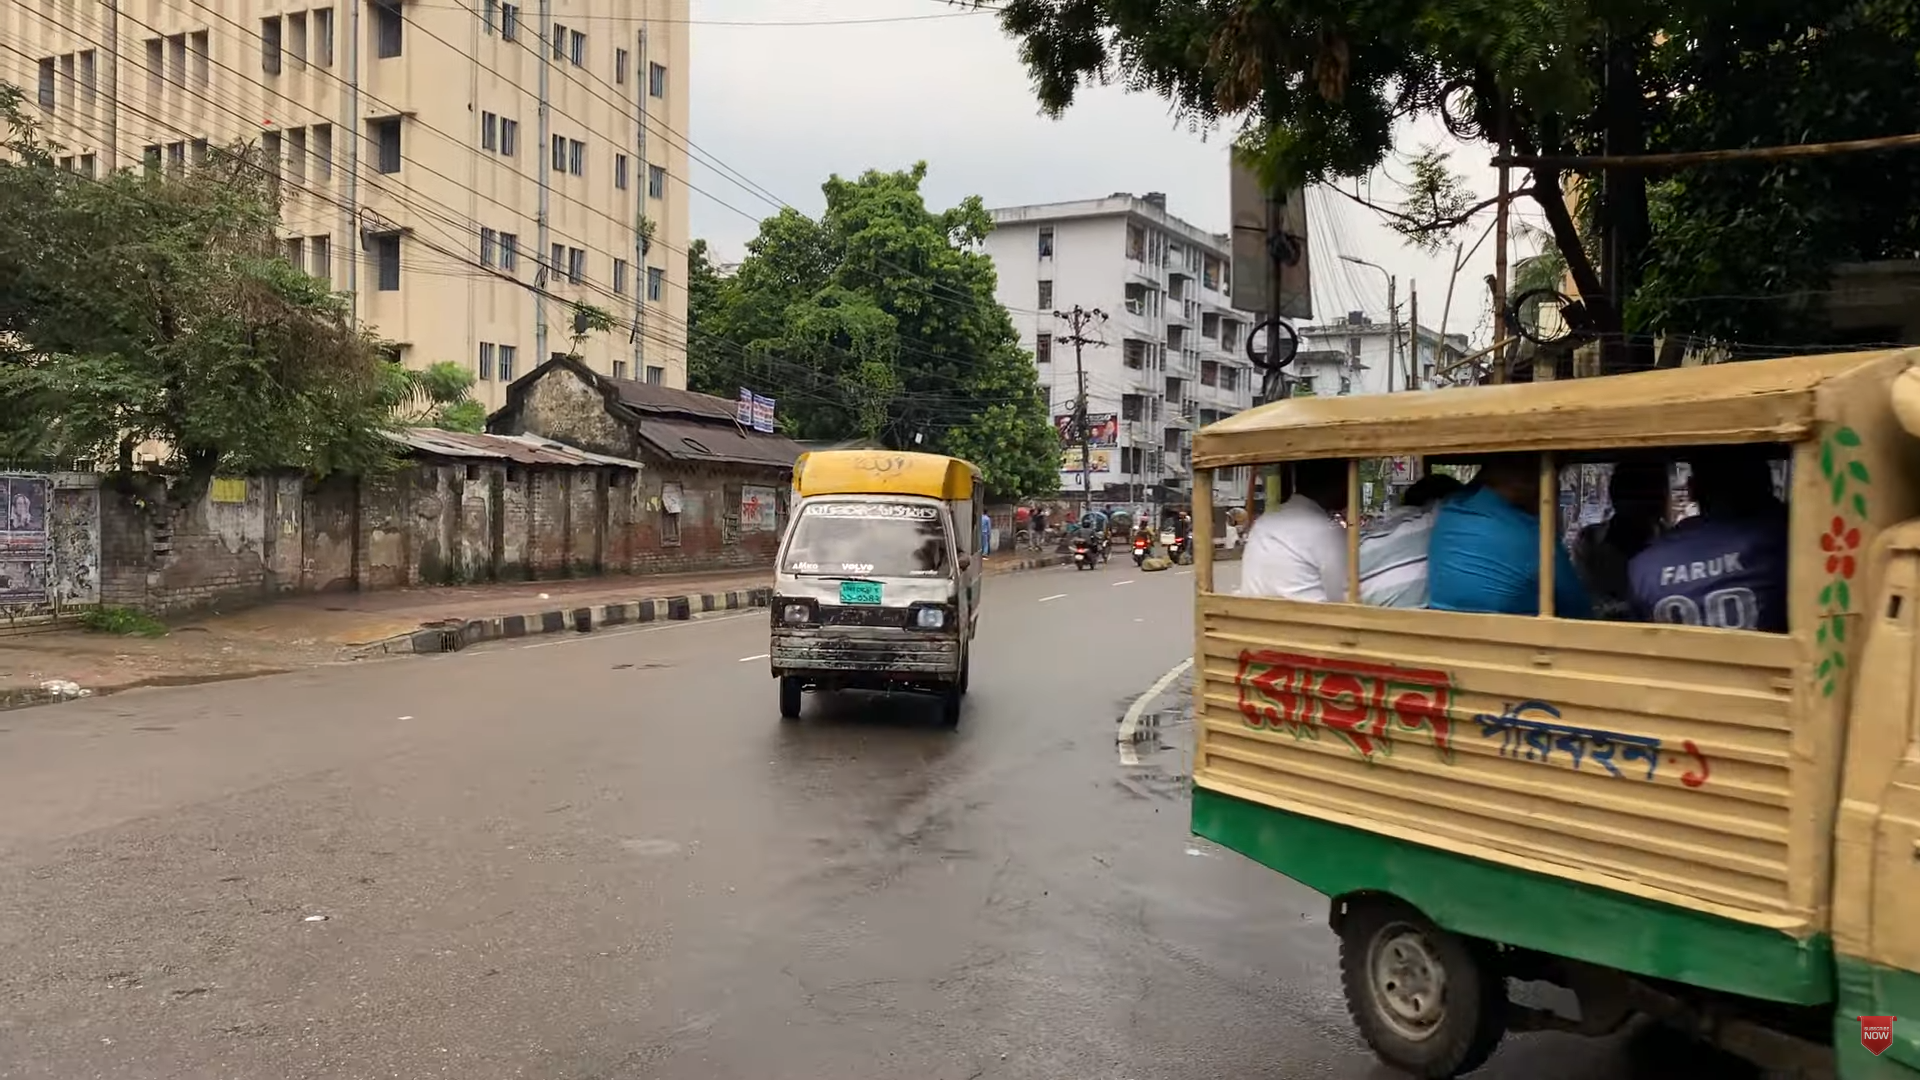Leguna: (1162, 345, 1909, 1075), (719, 434, 1004, 802)
Motorcycle: (1067, 518, 1106, 576), (1127, 517, 1160, 571)
